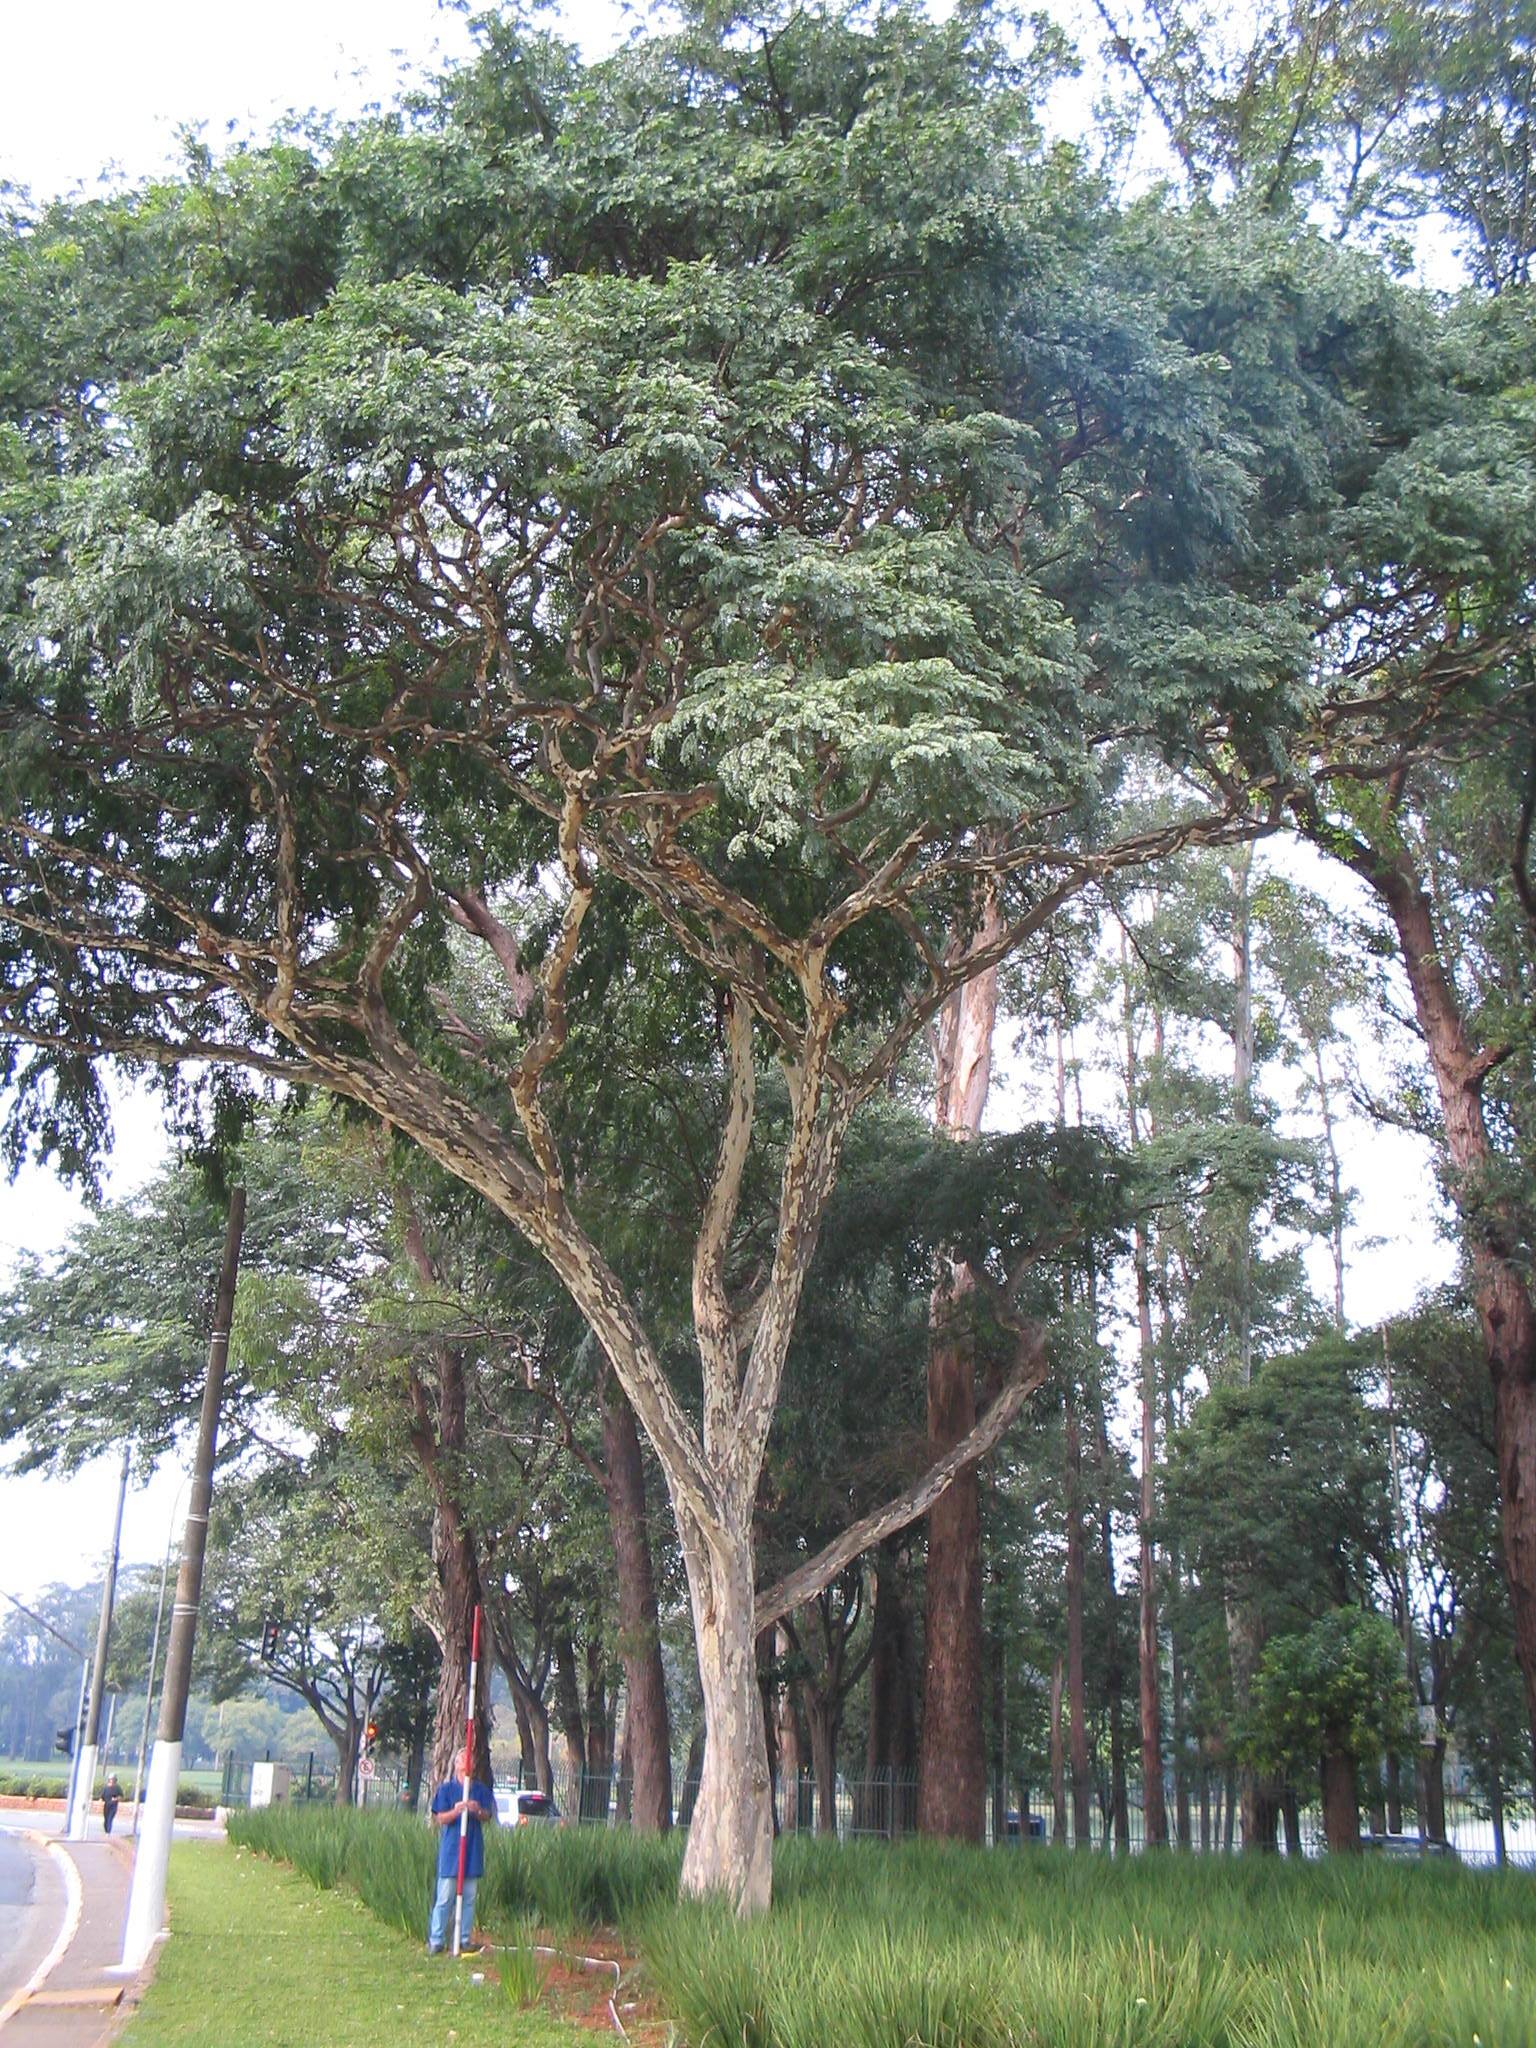crown: (11, 5, 1520, 1271)
stem: (603, 1484, 803, 1945)
stick: (429, 1596, 489, 1953)
tree: (6, 8, 1525, 1954)
